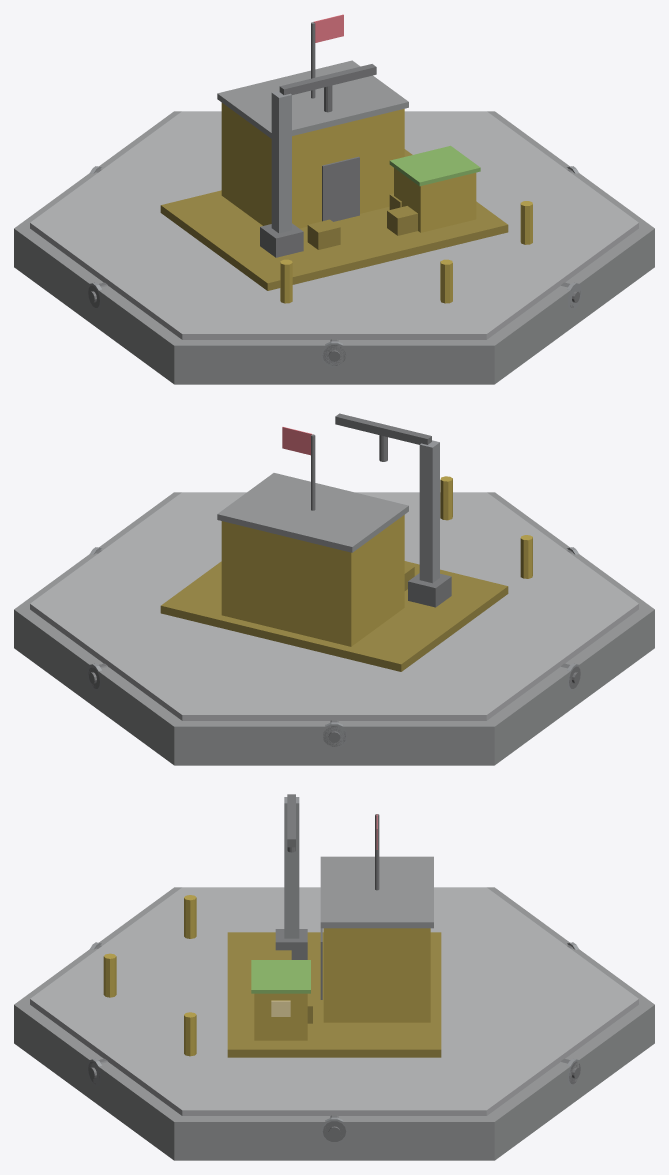
File: harbor_s3_100.glb
3 renders of one model, top to bottom at view 1: azimuth 30°, elevation 25°; view 2: azimuth 150°, elevation 25°; view 3: azimuth 270°, elevation 25°, orthographic.
Parts seen in each view (by area): view 1: HB_Base; view 2: HB_Base; view 3: HB_Base.
Boxes of the visible parts, x1,y1,x2,y2 form: HB_Base: (14, 14, 654, 384); HB_Base: (14, 413, 654, 765); HB_Base: (14, 794, 654, 1160).
Size of the model in its own units: 5.25 by 2.37 by 6.
